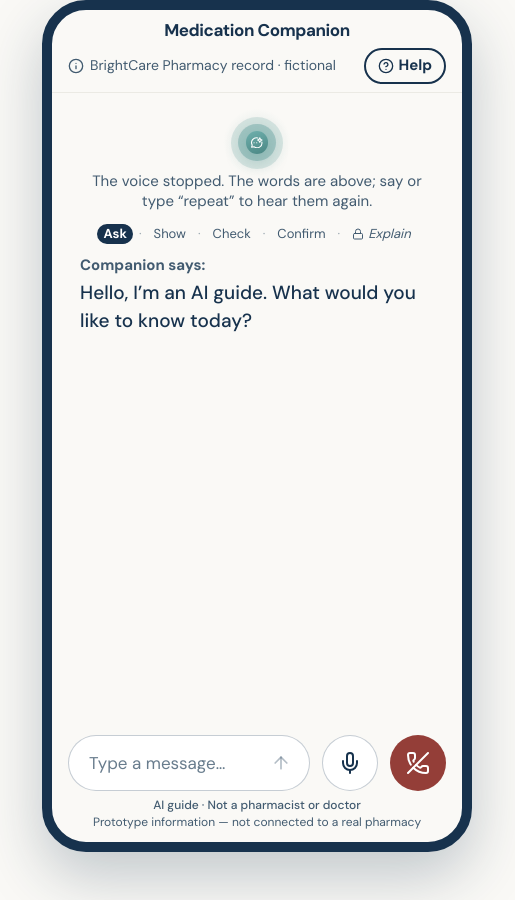
Test: asking for a pharmacist callback before any medicine is checked › on screen: the companion asks the pharmacist question; nothing is sent
Type "Can you help me to draft a message to pharmacies for callback?" into the field labelled "Type a message…" at (171, 763), box top-left (89, 736), bottom-right (253, 790)
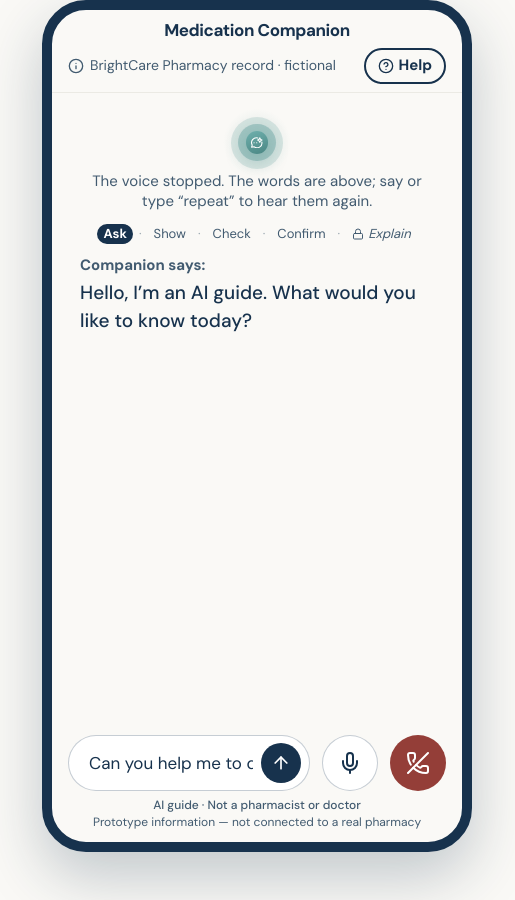
Submit the form named "type a message", box top-left (68, 735), bottom-right (310, 791)
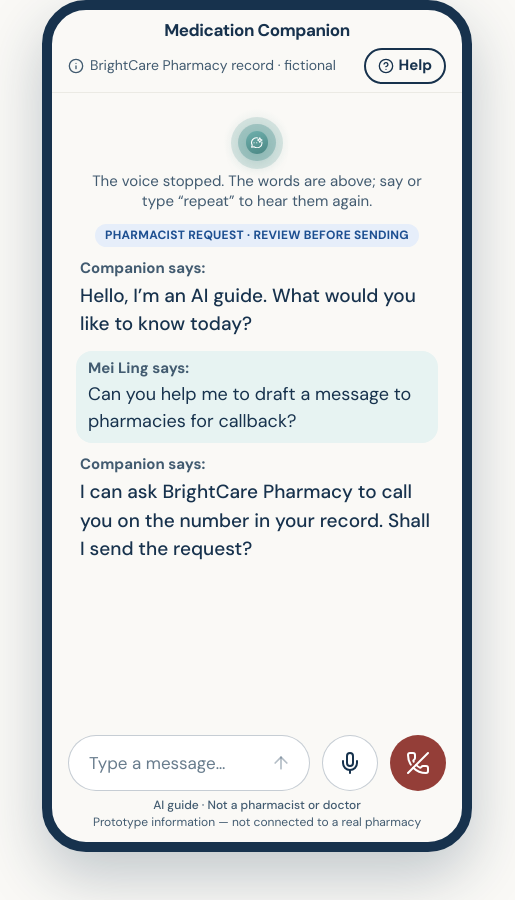
Expected: the text "I can ask BrightCare Pharmacy to call you on the number in your record. Shall I send the request?" is shown, top-left (80, 479), bottom-right (430, 561)
